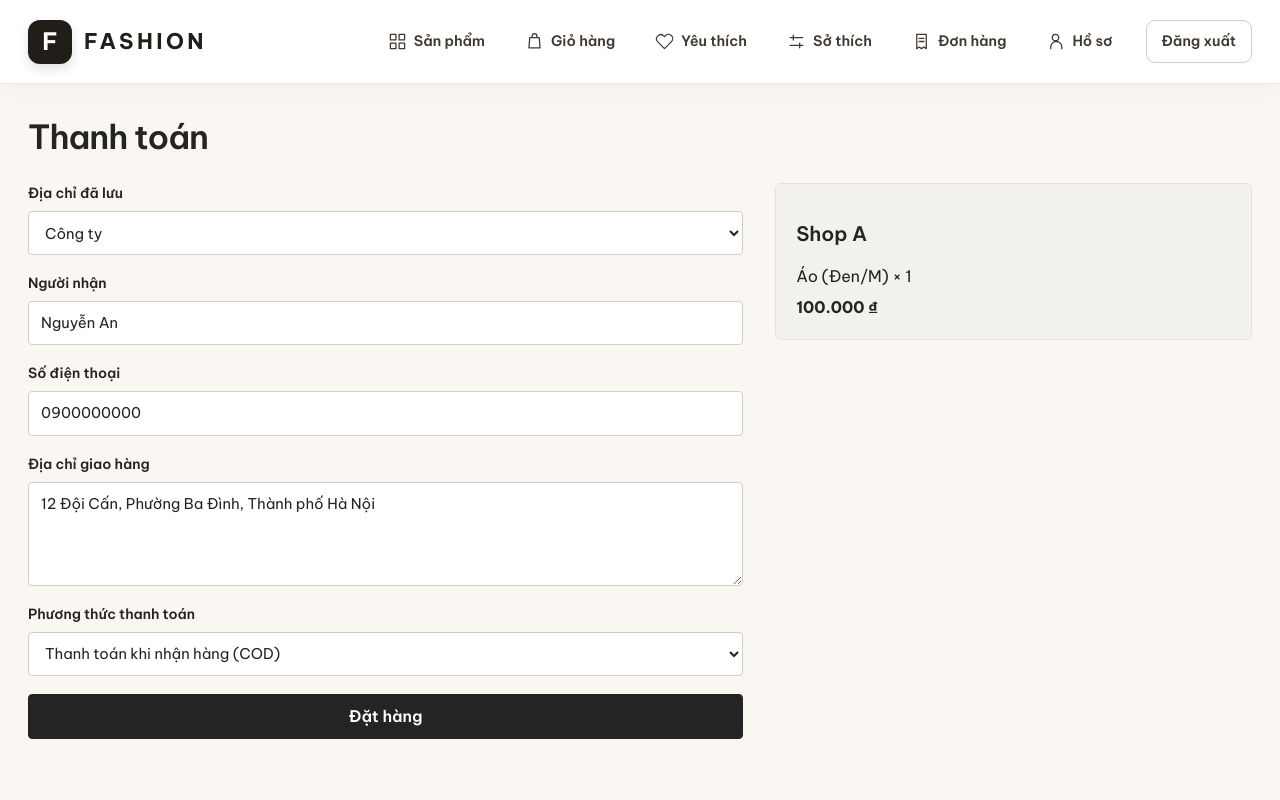
Test: trang hồ sơ và sổ địa chỉ › checkout tự điền địa chỉ mặc định và cho đổi địa chỉ đã lưu
Expected: the field labelled "Người nhận" holds "Nguyễn An", x1=28 y1=301 x2=743 y2=346
Expected: the text box labelled "Địa chỉ giao hàng" holds "12 Đội Cấn, Phường Ba Đình, Thành phố Hà Nội", x1=28 y1=482 x2=743 y2=586
Select "Công ty" in the dropdown labelled "Địa chỉ đã lưu" at (386, 233), box x1=28 y1=211 x2=743 y2=255
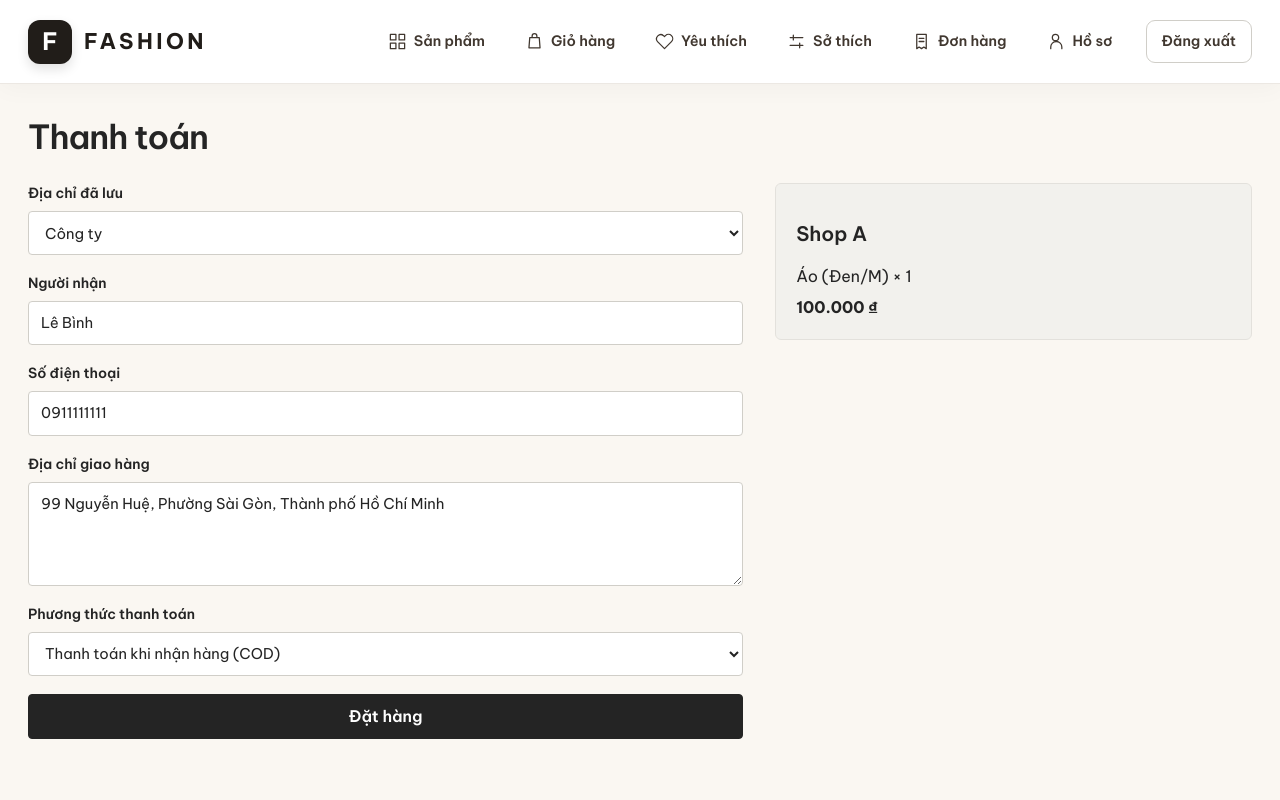
Expected: the field labelled "Người nhận" holds "Lê Bình", x1=28 y1=301 x2=743 y2=346
Expected: the text box labelled "Địa chỉ giao hàng" holds "99 Nguyễn Huệ, Phường Sài Gòn, Thành phố Hồ Chí Minh", x1=28 y1=482 x2=743 y2=586
